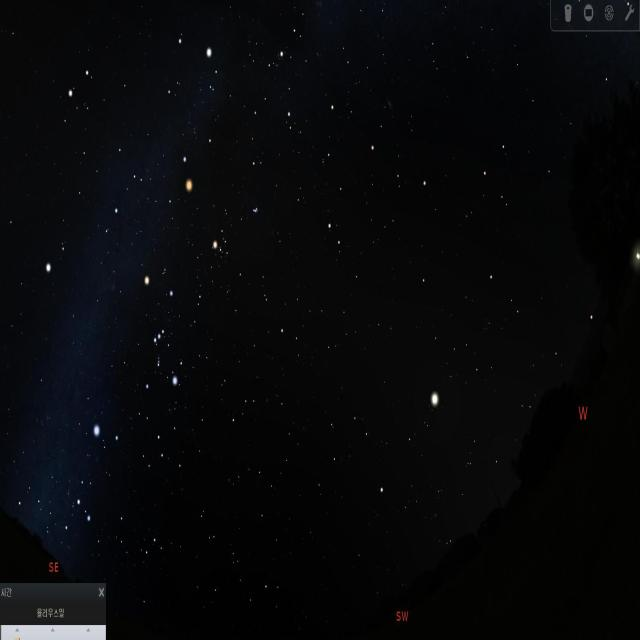canis_major: (75, 413, 126, 529)
canis_minor: (40, 228, 74, 290)
gemini: (60, 44, 149, 205)
orion: (138, 274, 182, 399)
pleiades: (248, 200, 264, 224)
taurus: (207, 198, 274, 296)
